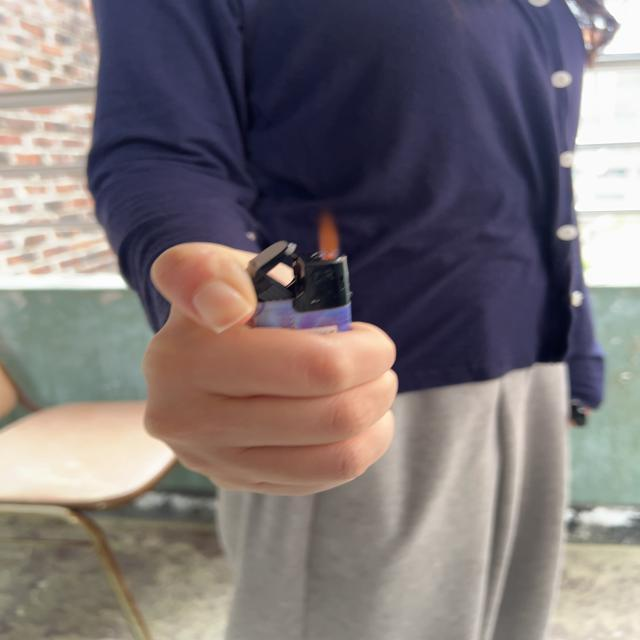fire: (314, 211, 344, 262)
